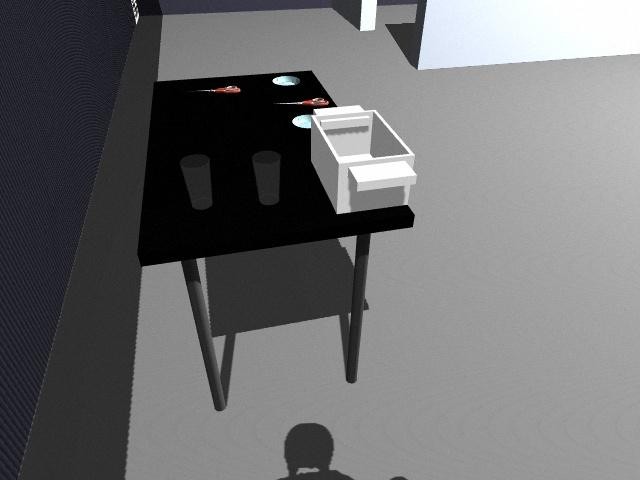cup: (179, 154, 212, 209), (252, 151, 281, 205)
plate: (291, 113, 313, 129), (272, 75, 300, 86)
scissors: (276, 98, 328, 107), (191, 86, 242, 94)
